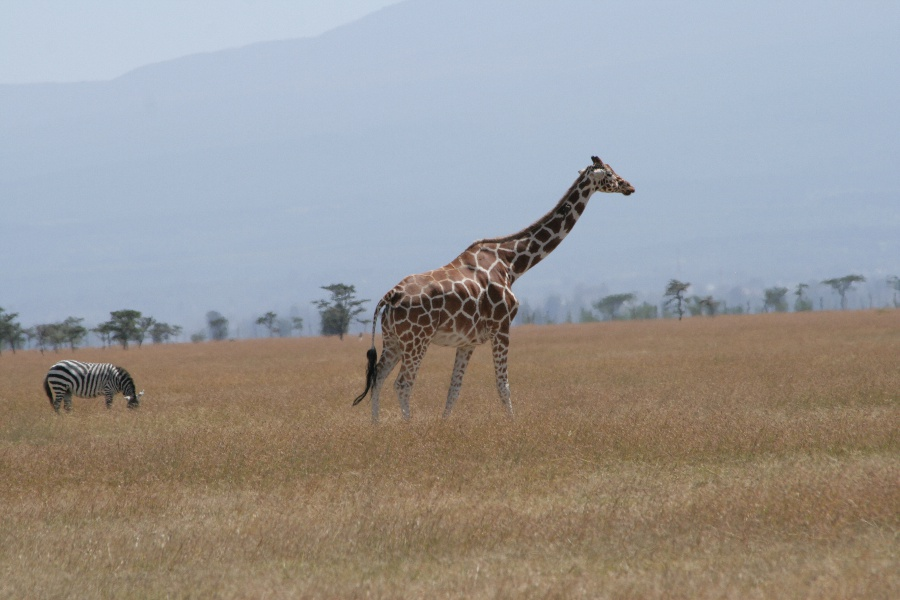giraffe: (355, 149, 640, 434)
